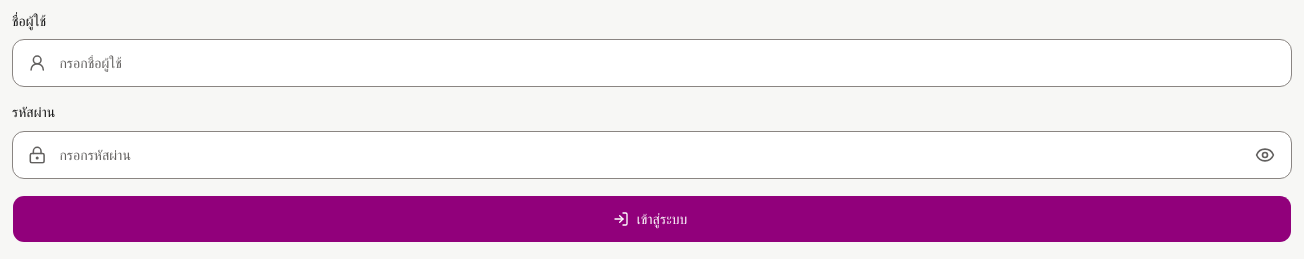
Test case: LoginForm › renders purpose-specific placeholders and toggles password visibility accessibly
Click the button named "แสดงรหัสผ่าน".
click(1265, 154)  # box [1245,134,1285,174]
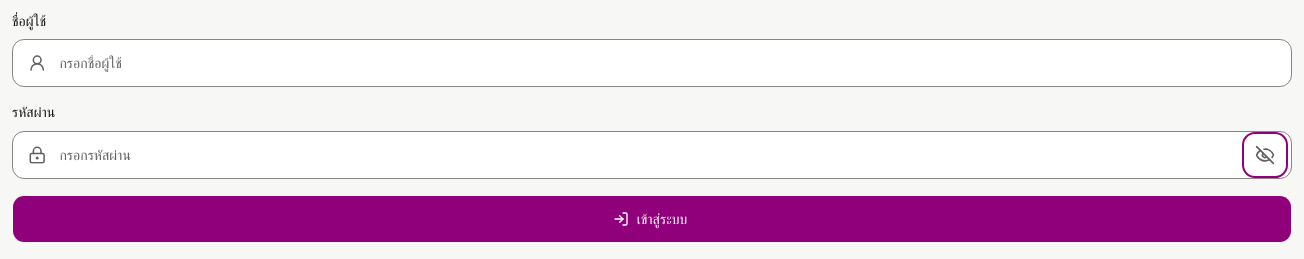
Now the button named "ซ่อนรหัสผ่าน" is shown, box [1245,134,1285,174]
